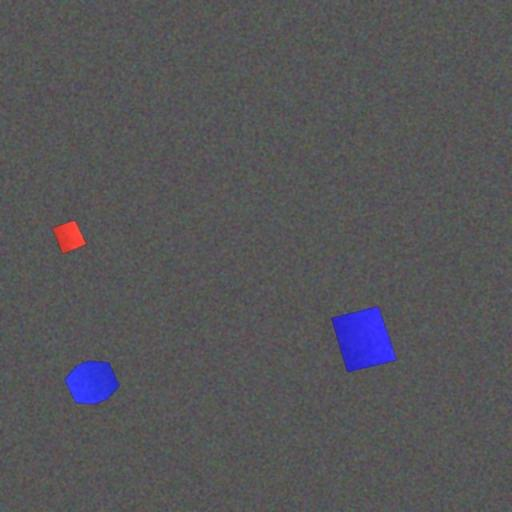BLUE_SQUARE: (330, 306, 398, 374)
RED_SQUARE: (52, 220, 87, 255)
